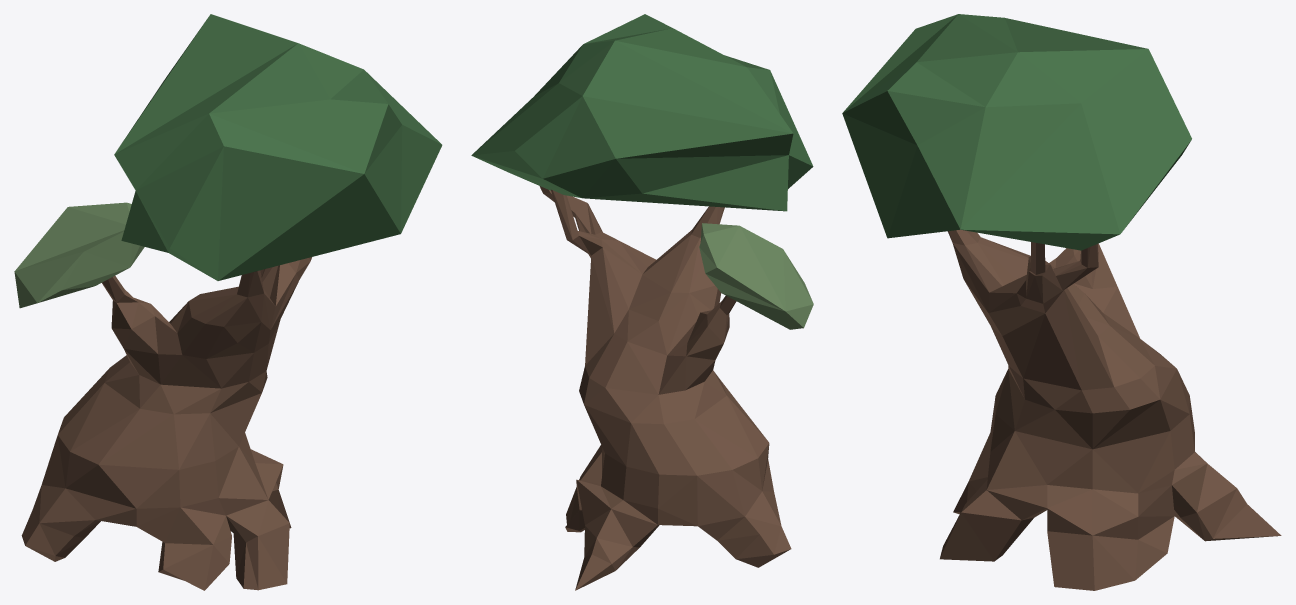
The model's file is _tree_20.fbx.
The picture shows the model from 3 angles, left to right: view 1: azimuth 30°, elevation 25°; view 2: azimuth 150°, elevation 25°; view 3: azimuth 270°, elevation 25°; orthographic projection. The views are drawn at different scales.
Visible parts, largest first — view 1: tree_20; view 2: tree_20; view 3: tree_20.
Part boxes in pixels (<box>): tree_20: <box>14,14,442,590</box>; tree_20: <box>471,14,813,590</box>; tree_20: <box>842,14,1281,590</box>.
Size of the model in its own units: 689 by 919 by 687.
